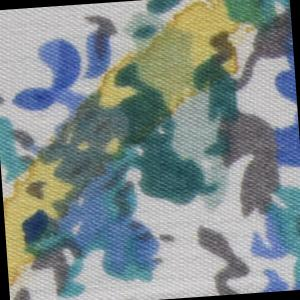Oil Stain: (1, 1, 287, 290)
